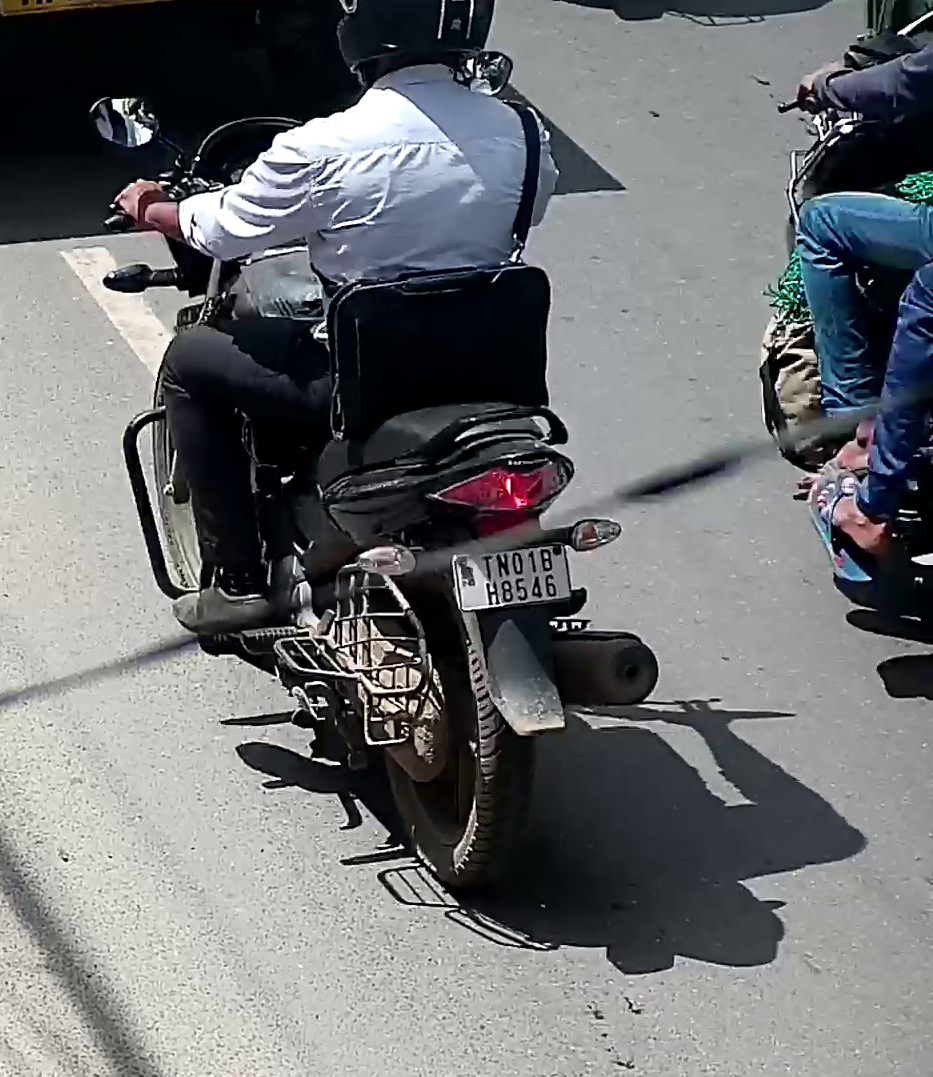0: (512, 552, 524, 574)
1: (527, 551, 537, 573)
4: (531, 576, 543, 599)
5: (515, 577, 528, 601)
6: (545, 574, 557, 597)
8: (501, 580, 513, 602)
B: (539, 548, 554, 572)
H: (485, 582, 500, 605)
N: (496, 553, 510, 578)
P2: (451, 542, 573, 615)
T: (481, 555, 494, 581)
